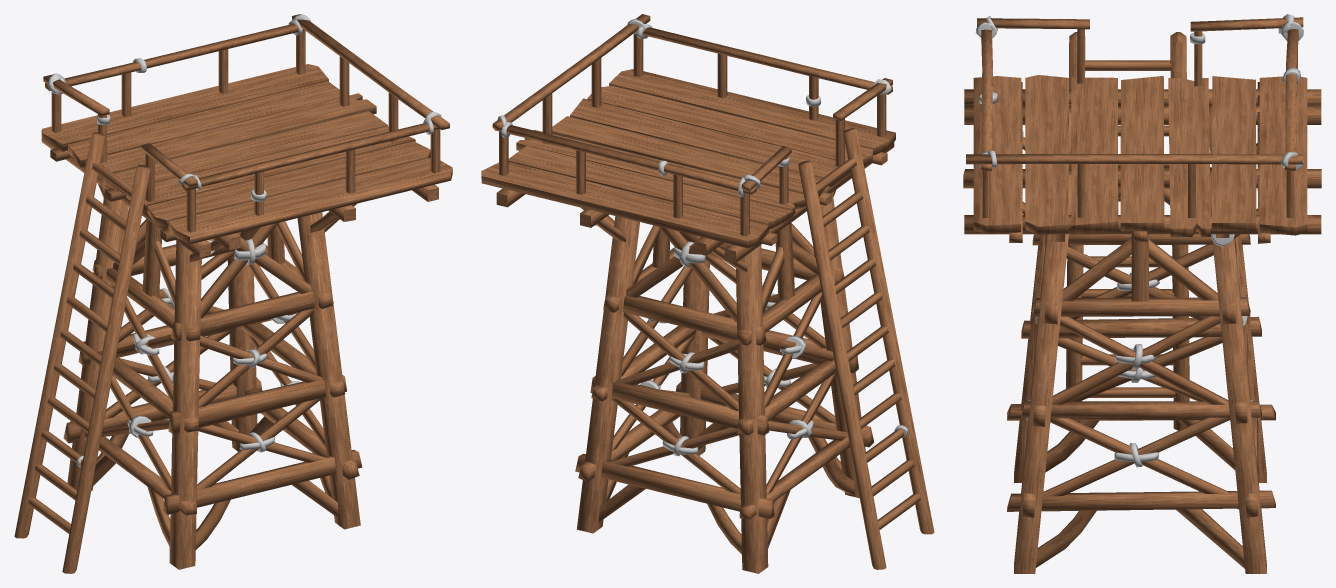
Rendered from Tower_2.fbx.
3 renders of one model, left to right at view 1: azimuth 30°, elevation 25°; view 2: azimuth 150°, elevation 25°; view 3: azimuth 270°, elevation 25°, orthographic. The views are drawn at different scales.
Visible parts, largest first — view 1: Tower_2; view 2: Tower_2; view 3: Tower_2.
Boxes of the visible parts, bbox=[...] form: Tower_2: bbox=[14, 14, 452, 573]; Tower_2: bbox=[481, 14, 934, 573]; Tower_2: bbox=[963, 14, 1321, 573].
Bounding box in the file's own units: 6.46 × 7.08 × 4.99.
